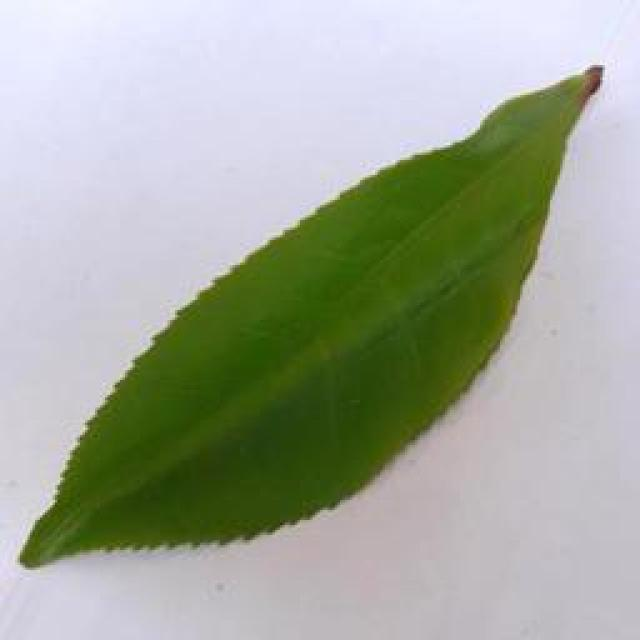Healthy: (22, 68, 602, 565)
